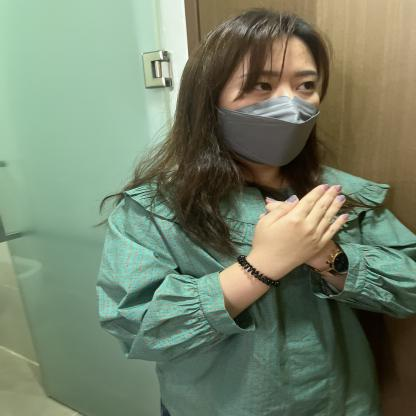Grieve: (156, 155, 399, 356)
